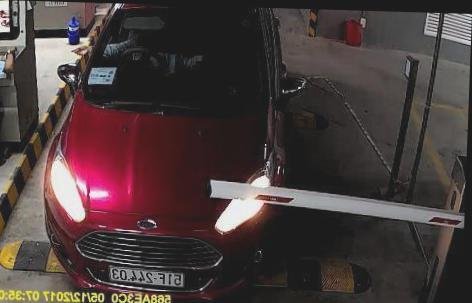License_Plate: (105, 265, 185, 290)
